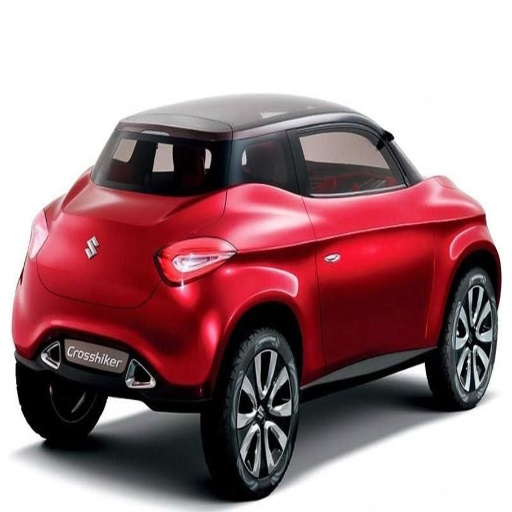back_bumper: (11, 272, 226, 406)
back_right_door: (286, 125, 390, 362)
trunk: (36, 190, 206, 303), (281, 262, 313, 345)
